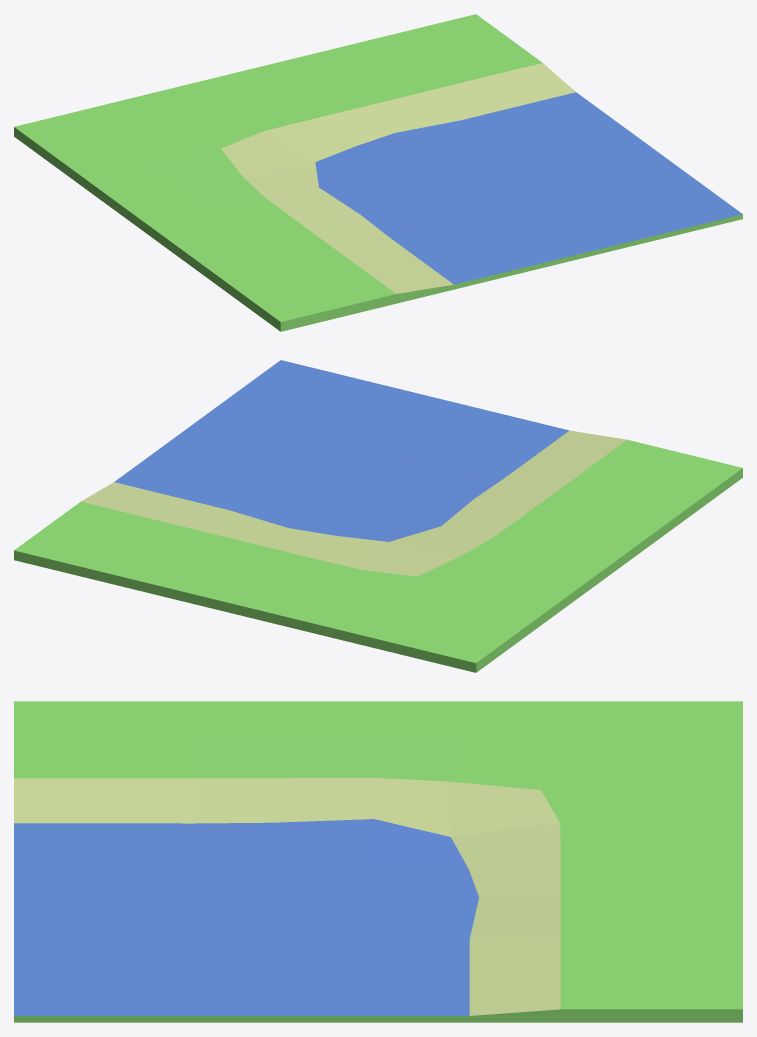
The model's file is water_convex_1.glb.
The picture shows the model from 3 angles, top to bottom: view 1: azimuth 30°, elevation 25°; view 2: azimuth 150°, elevation 25°; view 3: azimuth 270°, elevation 25°; orthographic projection. The views are drawn at different scales.
Parts seen in each view (by area): view 1: water_convex_1; view 2: water_convex_1; view 3: water_convex_1.
Part boxes in pixels (<box>): water_convex_1: <box>14,14,742,331</box>; water_convex_1: <box>14,360,742,672</box>; water_convex_1: <box>14,701,742,1022</box>.
Size of the model in its own units: 2 by 0.0418 by 2.
